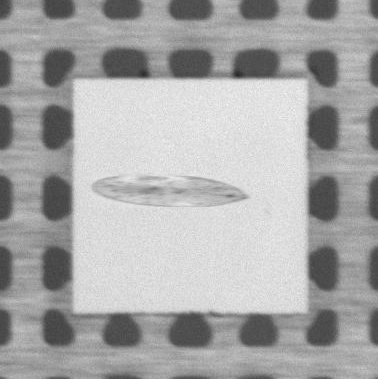DIE_INK: (80, 171, 259, 212)
